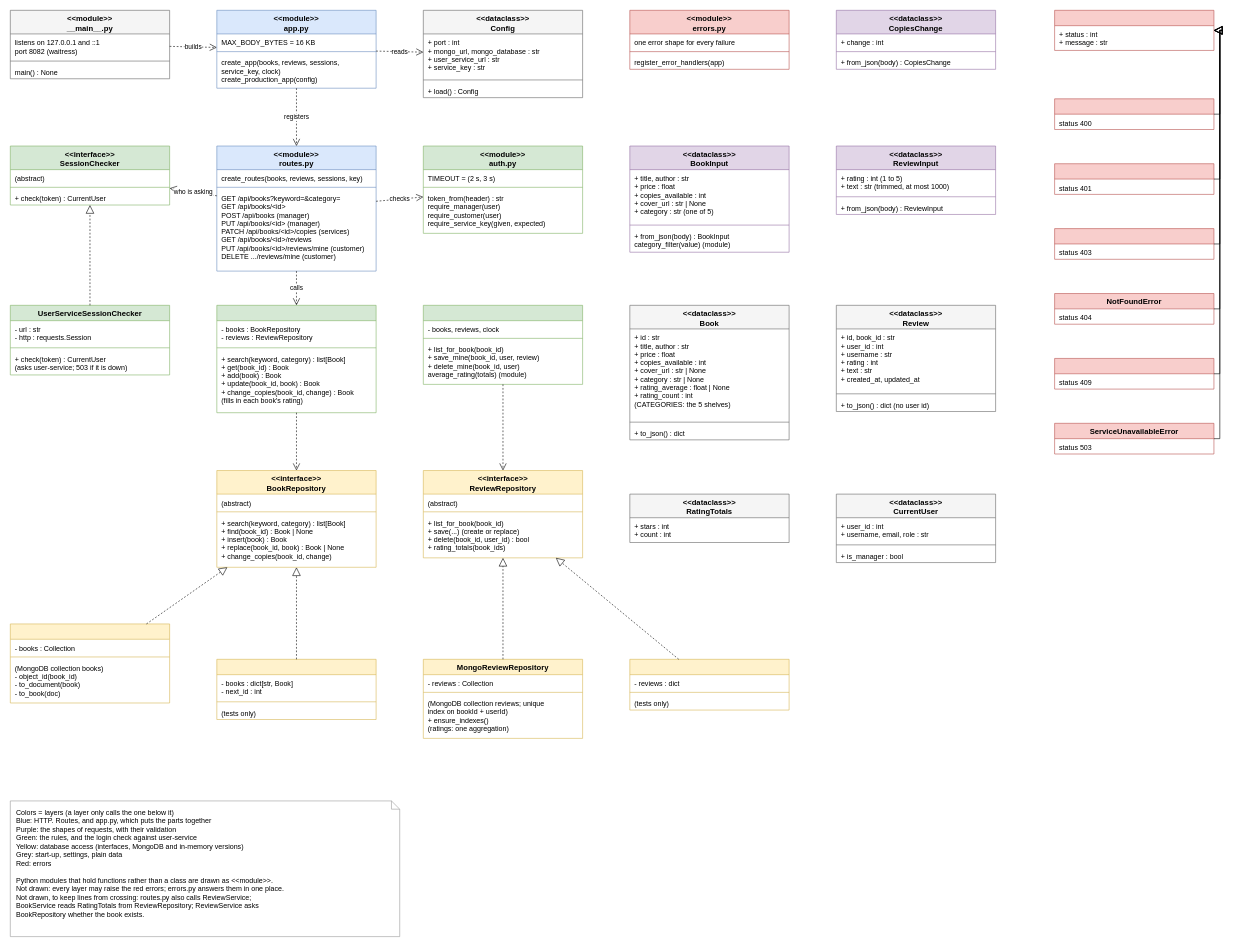
Image size: 1238x947. Some labels were removed from this diagram. Each missing label, with the box of its shape:
ApiError: (1054, 10, 1214, 50)
BookService: (216, 305, 376, 413)
ConflictError: (1054, 358, 1214, 389)
ForbiddenError: (1054, 228, 1214, 259)
InMemoryBookRepository: (216, 659, 376, 720)
InMemoryReviewRepository: (629, 659, 789, 710)
MongoBookRepository: (10, 623, 170, 703)
ReviewService: (423, 305, 583, 384)
UnauthorizedError: (1054, 163, 1214, 194)
ValidationError: (1054, 98, 1214, 130)
